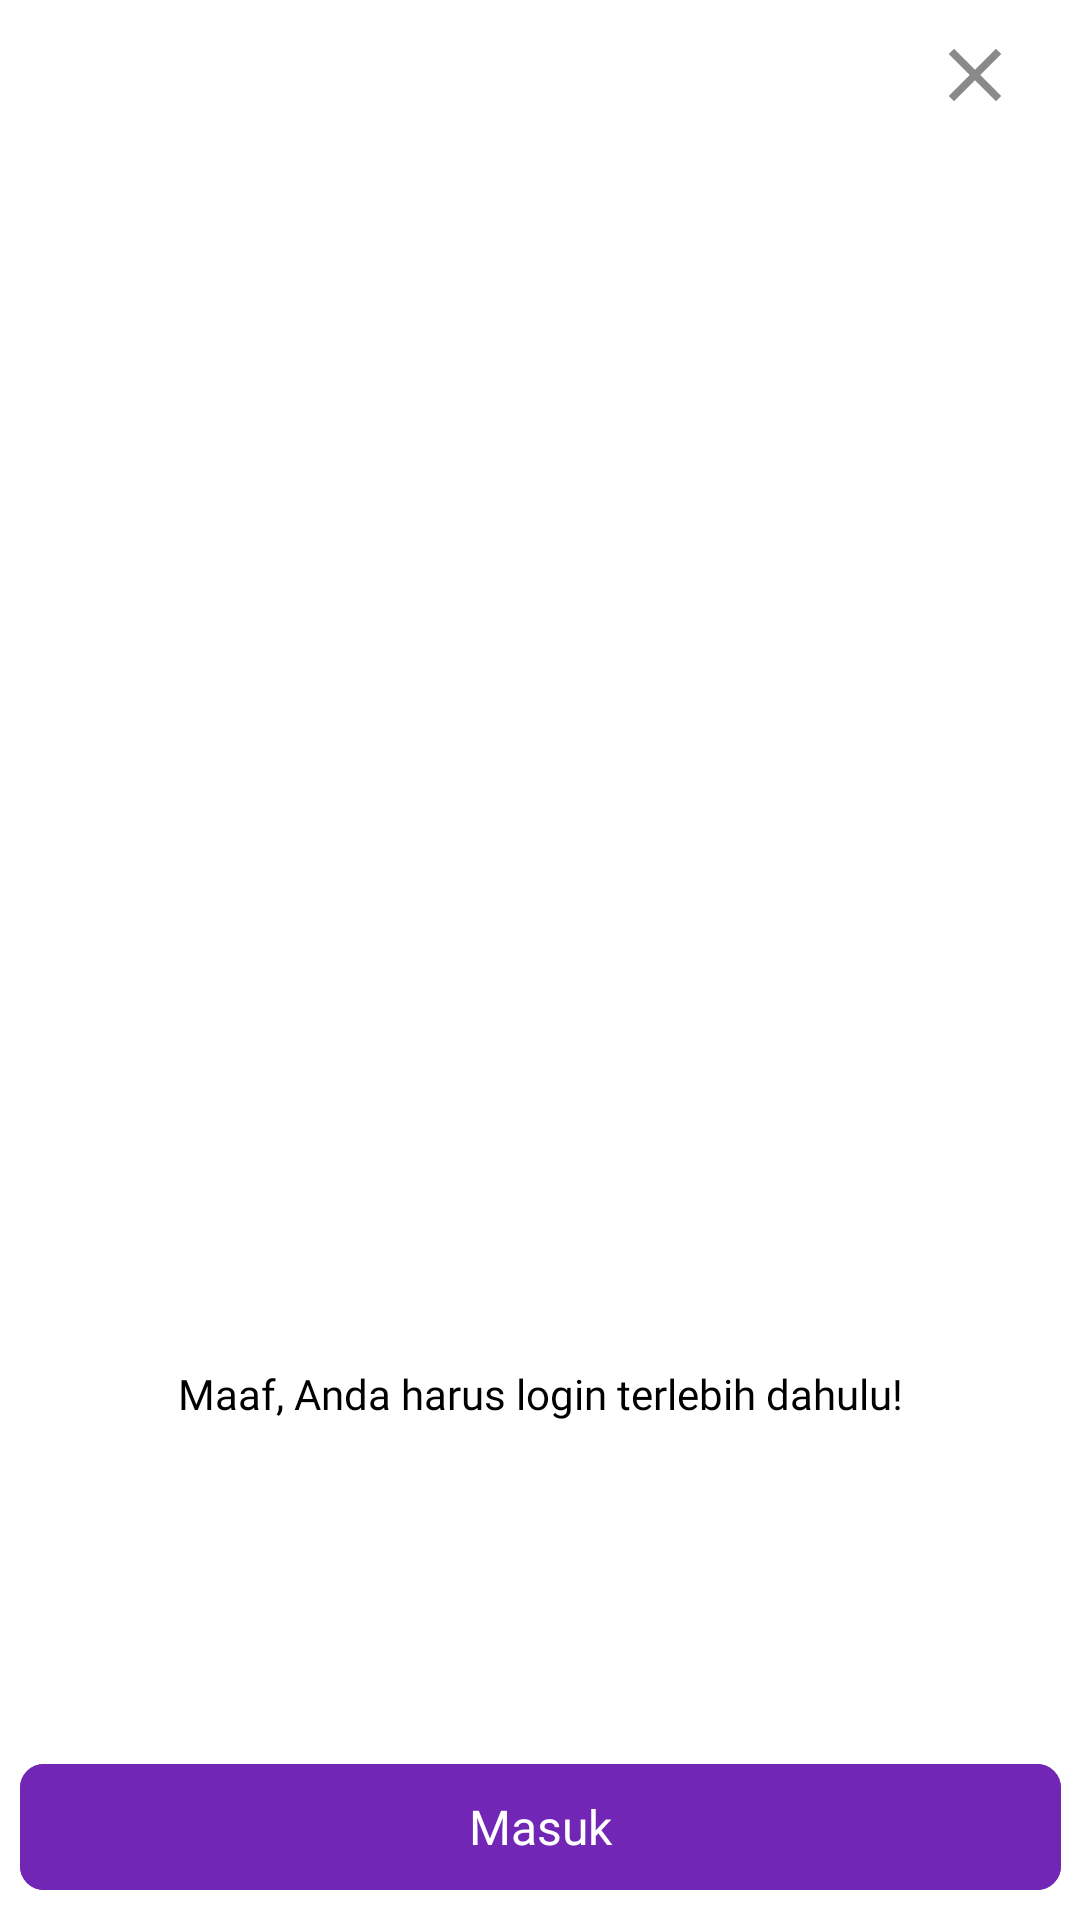

Named icons in this screenshot (1080px x 1920px) and their bounding boxes, region(x1, y1, x2, y2):
close: region(949, 49, 1001, 101)
